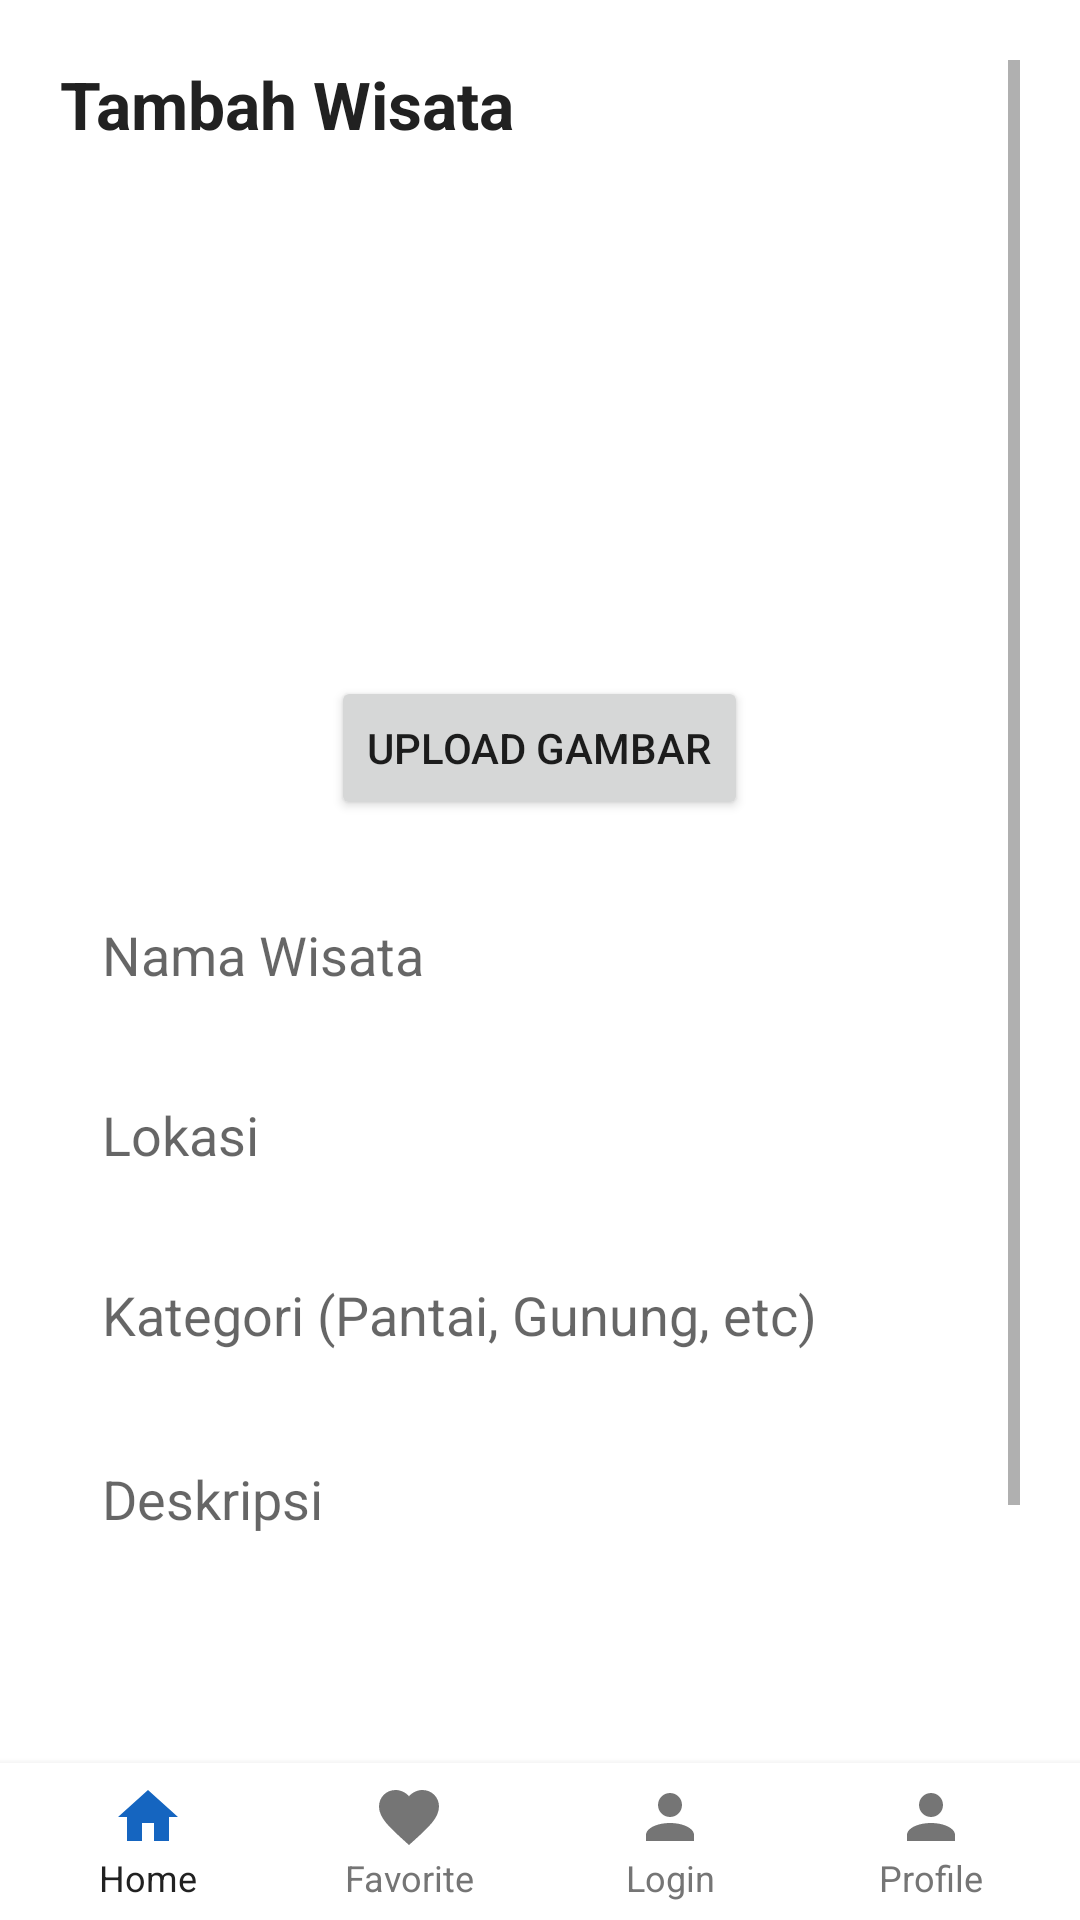

Where to tap for icons on this 1080x1920 app screen, as (x=x, y=y):
user: (x=670, y=1817), (x=931, y=1817)
